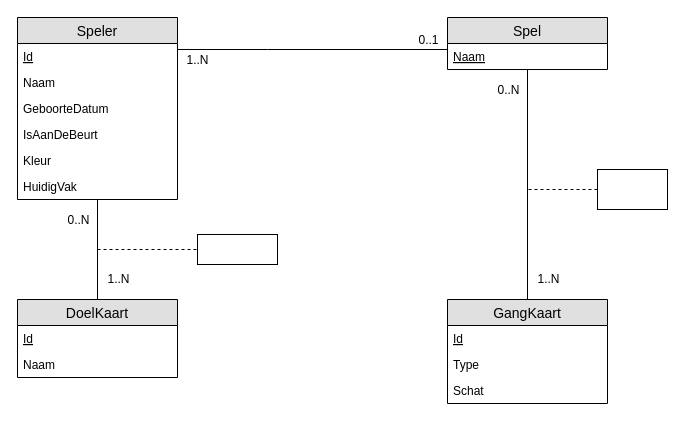
The diagram is 685 pixels wide and 424 high, and some of its shapes have lost their labels. Here are the shapes that lost their labels. From the top down, the centre of each, then its label:
the point at 632,189: Richting Positie
the point at 237,249: Volgorde
